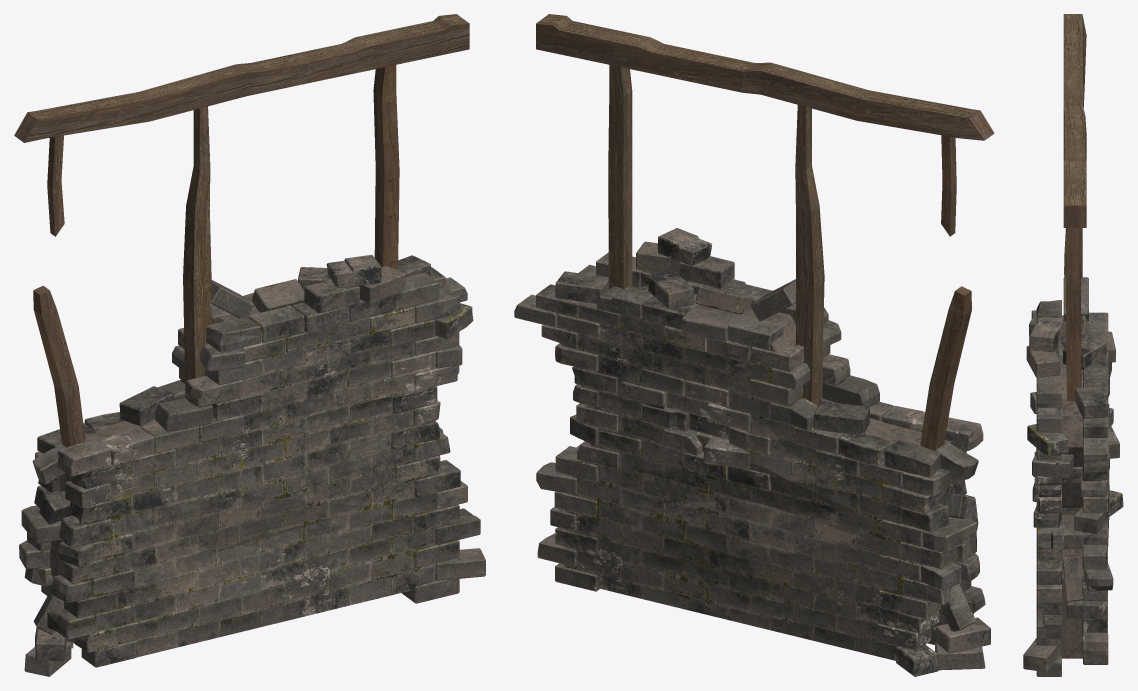
File: SM_ASY_RuinsWall_StraightBack_01.fbx
3 renders of one model, left to right at view 1: azimuth 30°, elevation 25°; view 2: azimuth 150°, elevation 25°; view 3: azimuth 270°, elevation 25°, orthographic. The views are drawn at different scales.
Parts seen in each view (by area): view 1: SM_ASY_RuinsWall_StraightBack_01.mo; view 2: SM_ASY_RuinsWall_StraightBack_01.mo; view 3: SM_ASY_RuinsWall_StraightBack_01.mo.
Part boxes in pixels (<box>): SM_ASY_RuinsWall_StraightBack_01.mo: <box>14,14,485,676</box>; SM_ASY_RuinsWall_StraightBack_01.mo: <box>514,14,994,676</box>; SM_ASY_RuinsWall_StraightBack_01.mo: <box>1023,14,1123,676</box>.
Bounding box in the file's own units: 291 × 343 × 63.46.
